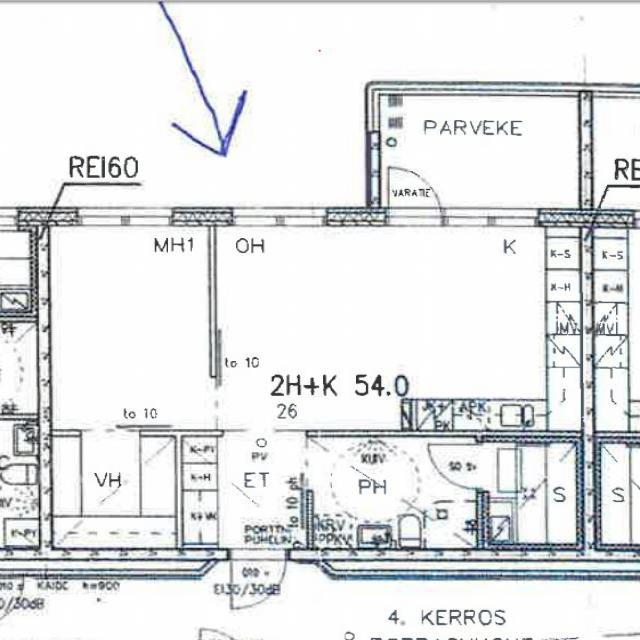door: (388, 160, 440, 226), (231, 547, 285, 609), (429, 444, 484, 488)
